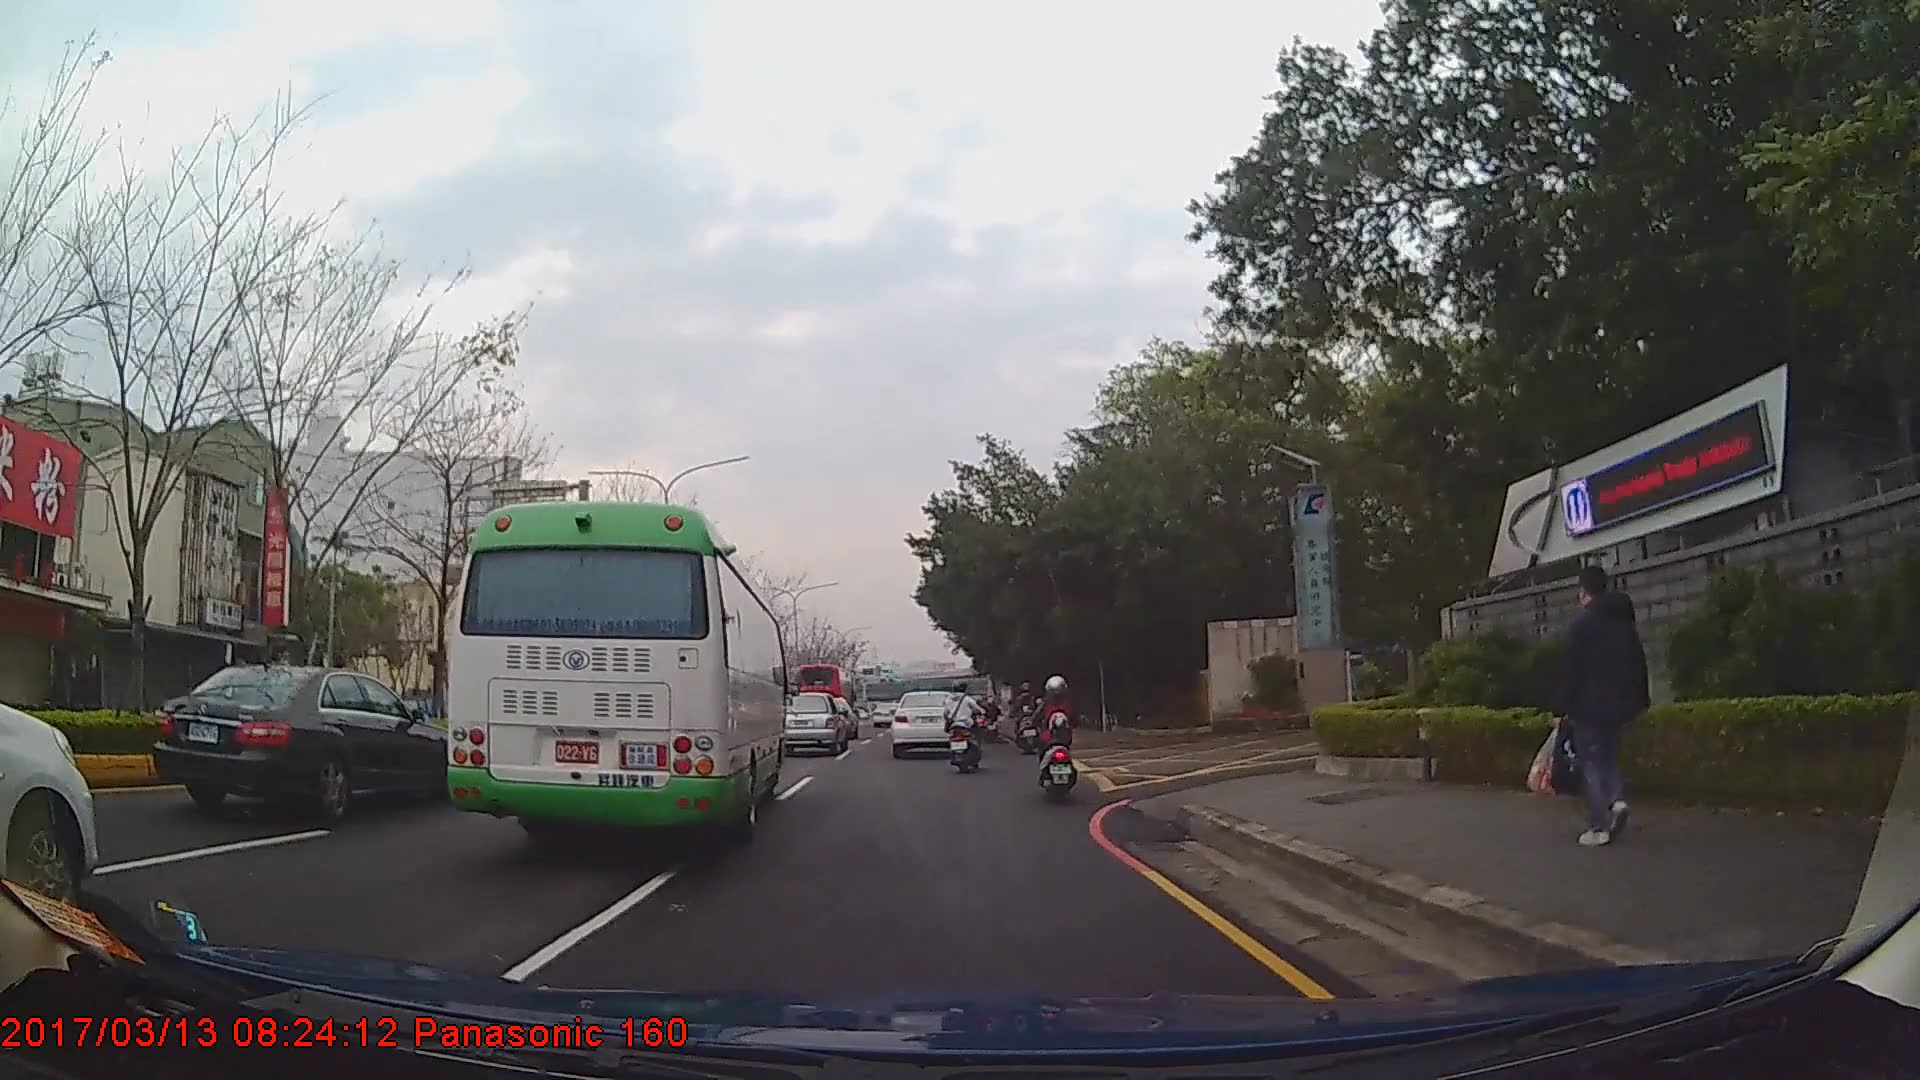pedestrian: (1538, 569, 1666, 847)
rider: (1037, 675, 1079, 797), (942, 678, 983, 772), (1012, 676, 1043, 751), (981, 696, 1001, 731)
vehicle: (439, 498, 786, 847), (151, 660, 462, 822), (889, 687, 964, 757), (781, 689, 848, 756)
